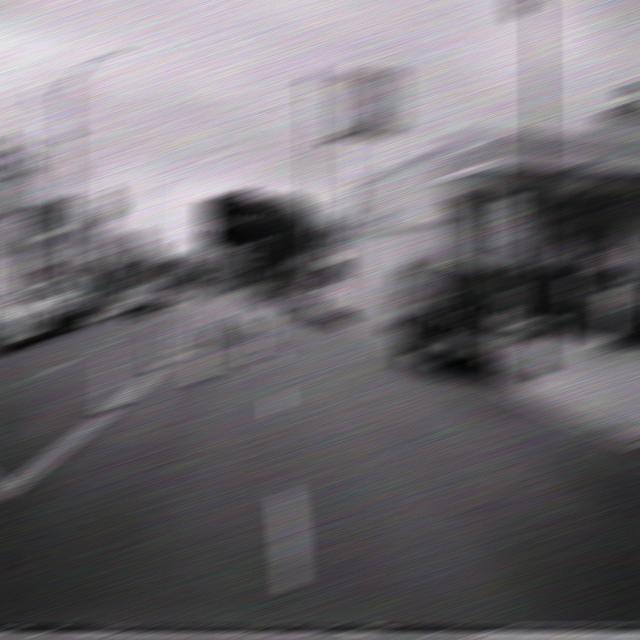speedLimit25: (493, 195, 523, 240)
